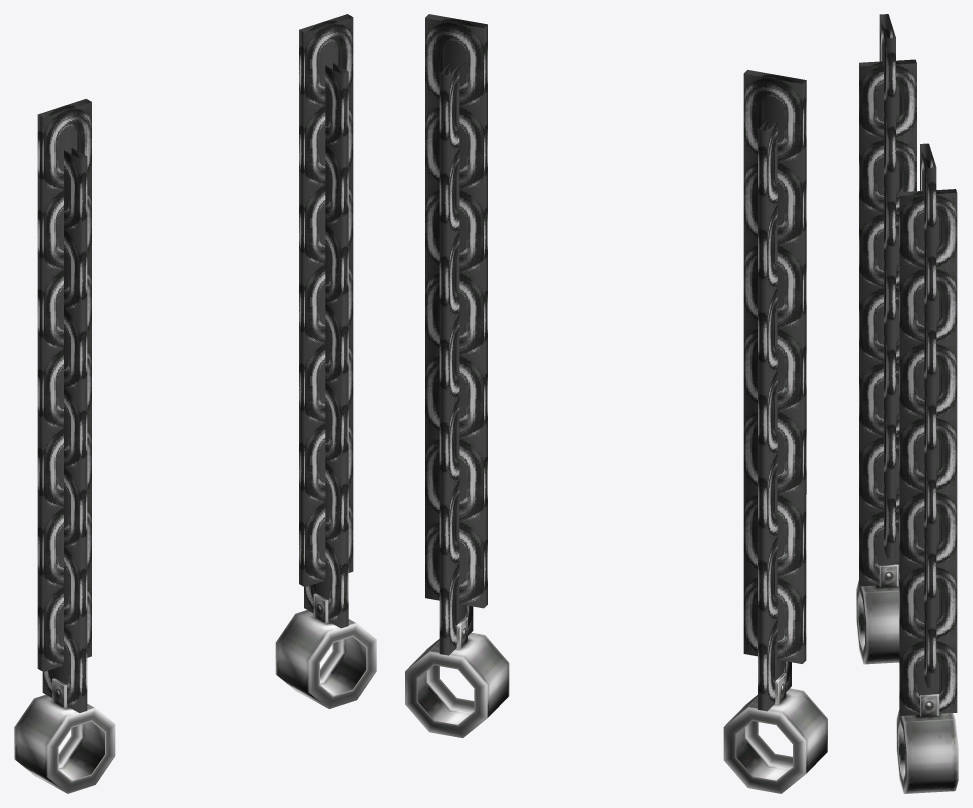
The model's file is SWORDLIGHT20_INST_CHAINCUFFS_LOD1_06.fbx.
3 views of the same model, side by side, from view 1: azimuth 30°, elevation 25°; view 2: azimuth 150°, elevation 25°; view 3: azimuth 270°, elevation 25° (orthographic). The views are drawn at different scales.
Visible parts, largest first — view 1: SWORDLIGHT20_INST_CHAINCUFFS_LOD1_06; view 2: SWORDLIGHT20_INST_CHAINCUFFS_LOD1_06; view 3: SWORDLIGHT20_INST_CHAINCUFFS_LOD1_06.
Part boxes in pixels (x1,y1,x2,y2): SWORDLIGHT20_INST_CHAINCUFFS_LOD1_06: [14, 14, 376, 793]; SWORDLIGHT20_INST_CHAINCUFFS_LOD1_06: [405, 14, 827, 793]; SWORDLIGHT20_INST_CHAINCUFFS_LOD1_06: [856, 14, 958, 793].
Bounding box in the file's own units: 6831 × 12114 × 1787.
2 materials, 2 textured.
